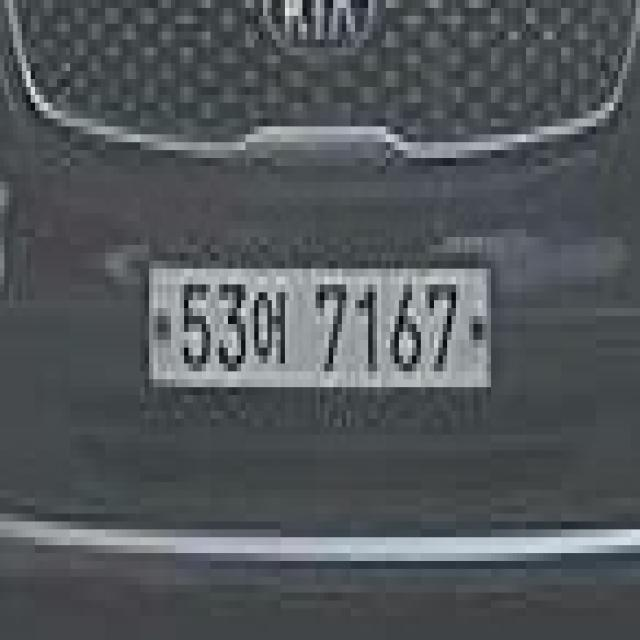1: (350, 261, 386, 403)
3: (215, 261, 250, 379)
5: (171, 269, 210, 371)
6: (390, 261, 430, 395)
7: (425, 261, 460, 387), (316, 269, 346, 379)
eo: (250, 260, 289, 356)
license_plate: (132, 253, 500, 403)
